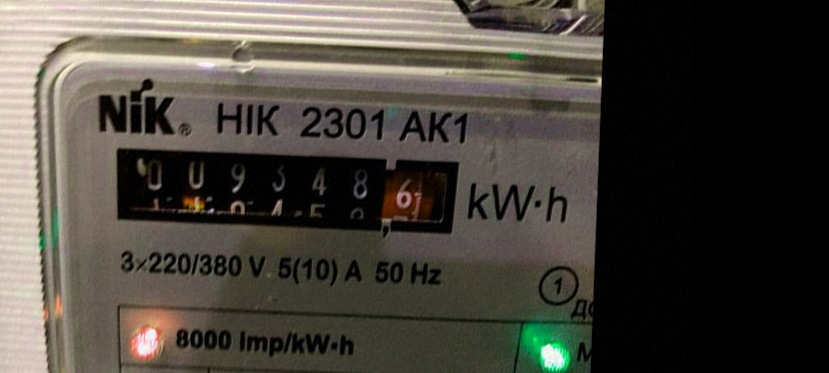0: (183, 156, 206, 193), (142, 157, 164, 193)
3: (265, 161, 289, 193)
4: (305, 162, 328, 200)
6: (392, 176, 415, 210)
8: (348, 166, 369, 201)
9: (226, 159, 246, 194)
screen: (89, 133, 477, 250)
